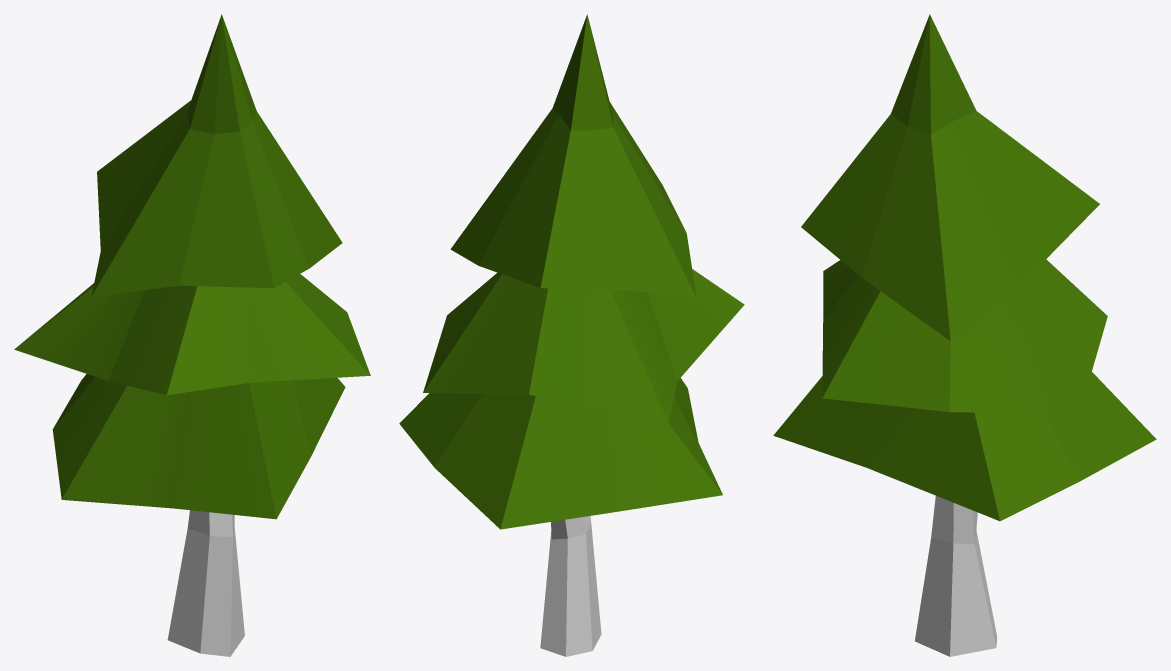
File: PineTree_02.fbx
3 renders of one model, left to right at view 1: azimuth 30°, elevation 25°; view 2: azimuth 150°, elevation 25°; view 3: azimuth 270°, elevation 25°, orthographic. The views are drawn at different scales.
Parts seen in each view (by area): view 1: PineTree_02; view 2: PineTree_02; view 3: PineTree_02.
Boxes of the visible parts, box(x1,y1,x2,y2) form: PineTree_02: box(14, 14, 370, 656); PineTree_02: box(399, 14, 744, 656); PineTree_02: box(773, 14, 1156, 656).
Size of the model in its own units: 5.08 by 10.01 by 5.53.
